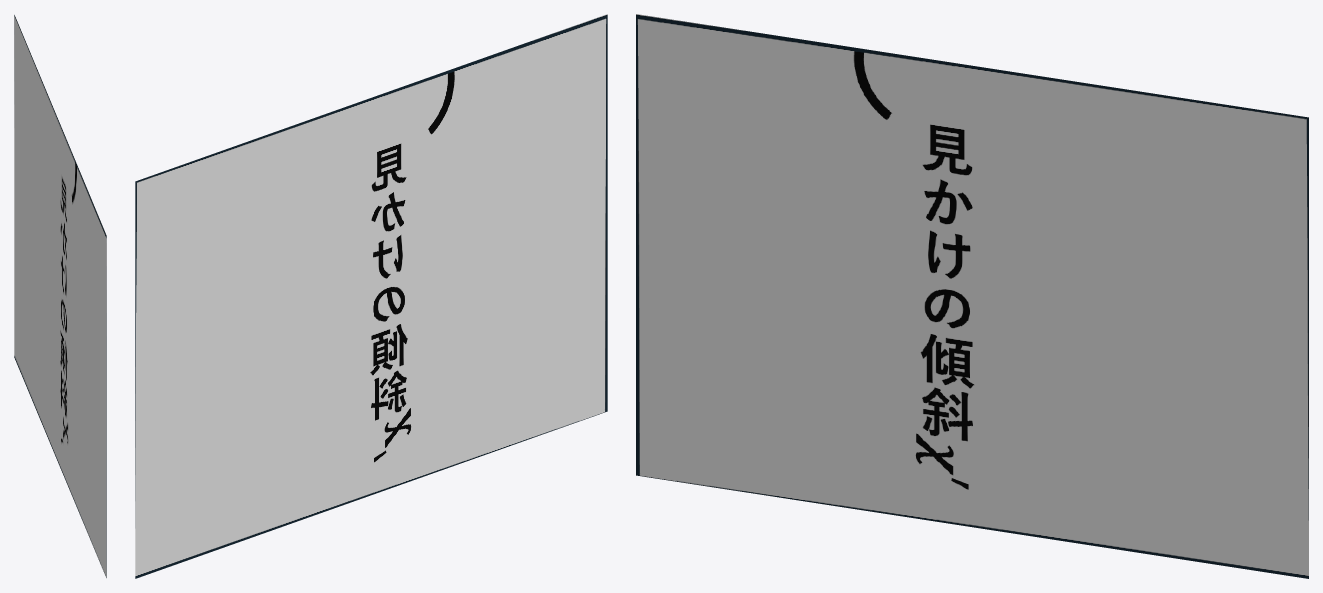
Rendered from eastdansougazou.glb.
3 views of the same model, side by side, from view 1: azimuth 30°, elevation 25°; view 2: azimuth 150°, elevation 25°; view 3: azimuth 270°, elevation 25° (orthographic). The views are drawn at different scales.
Parts seen in each view (by area): view 1: eastdansougazou; view 2: eastdansougazou; view 3: eastdansougazou.
Boxes of the visible parts, x1=… form: eastdansougazou: x1=14, y1=15, x2=106, y2=577; eastdansougazou: x1=135, y1=14, x2=607, y2=578; eastdansougazou: x1=636, y1=14, x2=1308, y2=578.
Size of the model in its own units: 1.68 by 3.5 by 4.63.
Materials: 1 (1 with a texture image).
